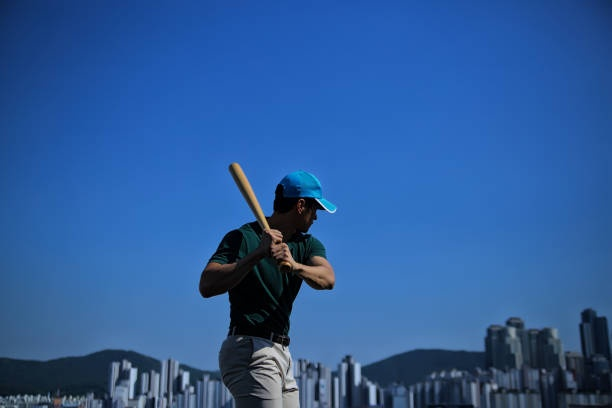bita: (227, 161, 286, 271)
